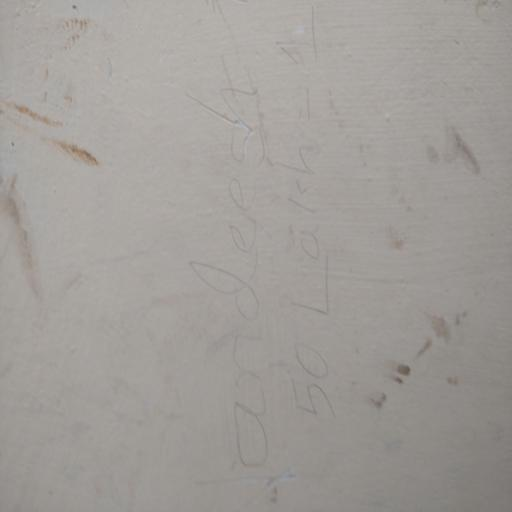stain: (184, 1, 340, 474), (0, 0, 108, 304), (375, 107, 491, 263), (361, 297, 483, 414)
